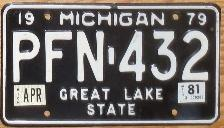2: (180, 29, 212, 80)
3: (150, 28, 179, 82)
4: (118, 29, 147, 83)
F: (44, 30, 74, 84)
N: (77, 29, 107, 83)
P: (11, 29, 43, 86)
